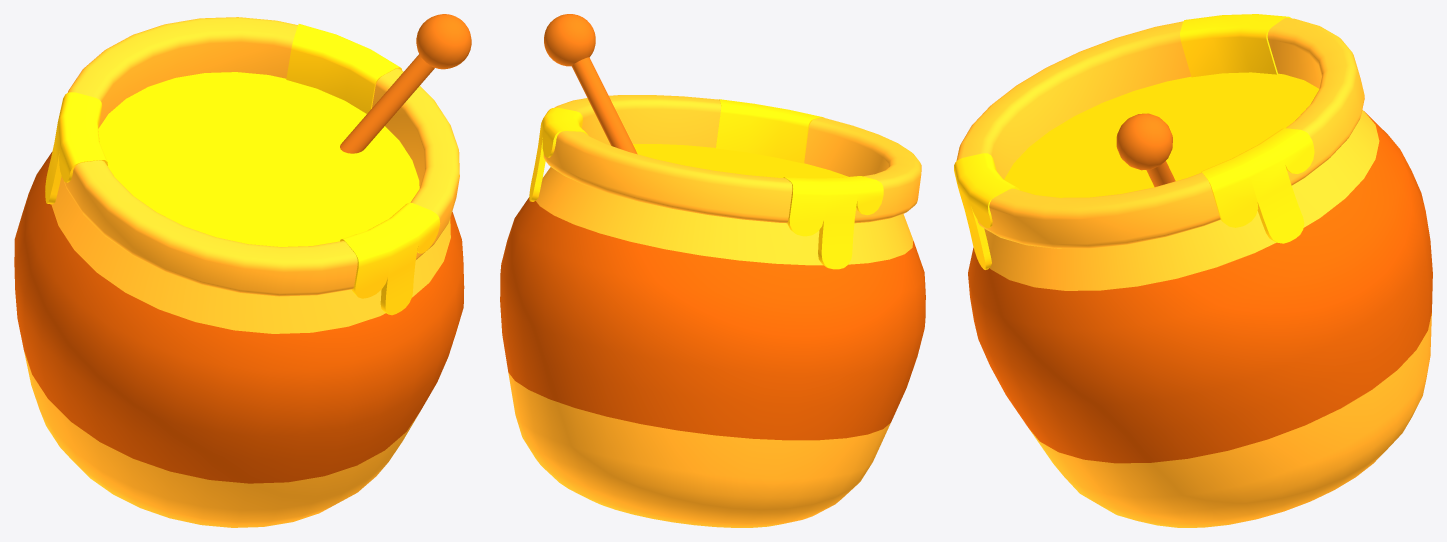
Rendered from honey_pot.gltf.
3 renders of one model, left to right at view 1: azimuth 30°, elevation 25°; view 2: azimuth 150°, elevation 25°; view 3: azimuth 270°, elevation 25°, orthographic. The views are drawn at different scales.
Visible parts, largest first — view 1: Circle.2262; view 2: Circle.2262; view 3: Circle.2262.
Part boxes in pixels (box(x1,y1,x2,y2)): Circle.2262: box(14, 14, 471, 527); Circle.2262: box(500, 14, 925, 527); Circle.2262: box(954, 14, 1432, 527).
Size of the model in its own units: 2.05 by 2.24 by 2.08.
1 material, 1 textured.
